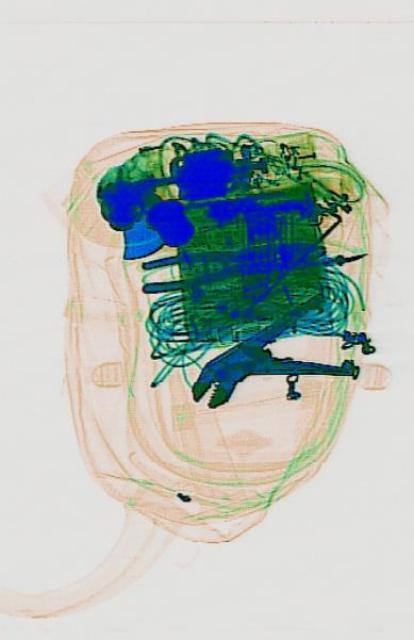Pliers: (180, 282, 352, 442), (137, 231, 325, 291)
